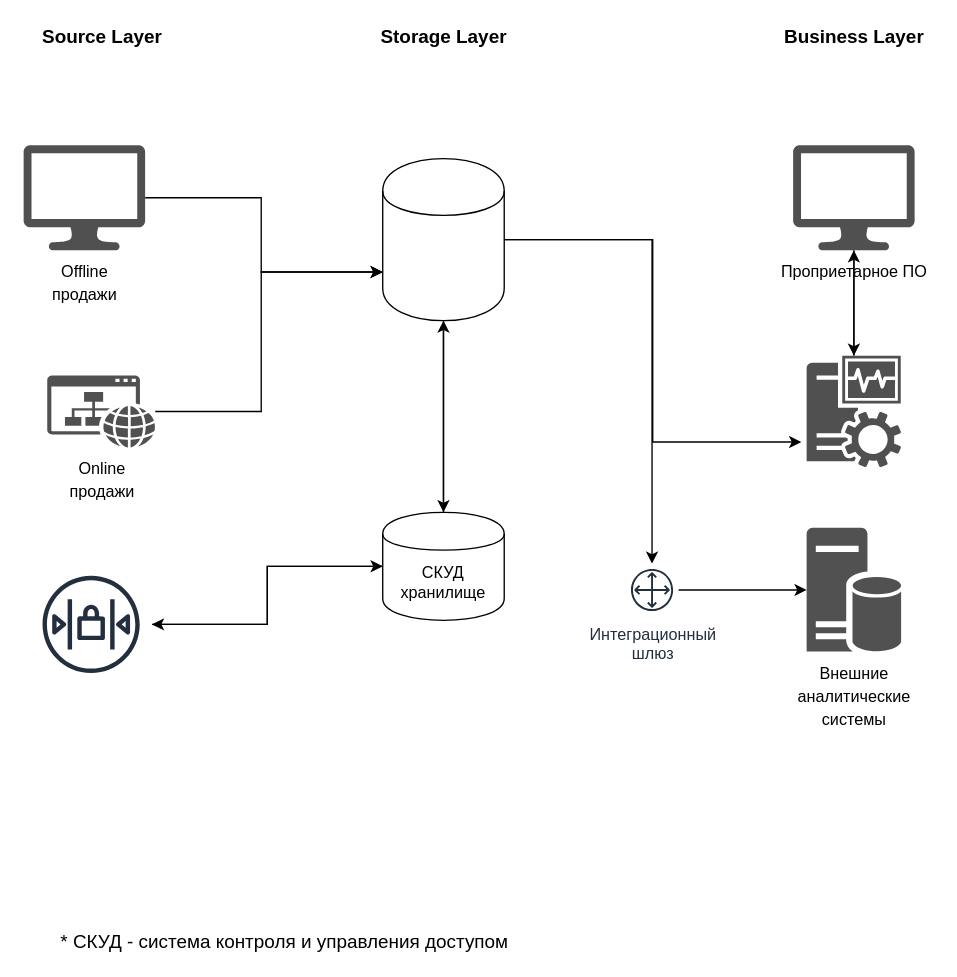
Some shapes in this 957 by 977 pixel diagram are drawn without their labels. Here are the shapes that lost their labels. From the top down, the centre of each, then its label:
At (x=442, y=239): "Хранилище Данных".
At (x=853, y=411): "SQL".
At (x=90, y=623): "СКУД*".
